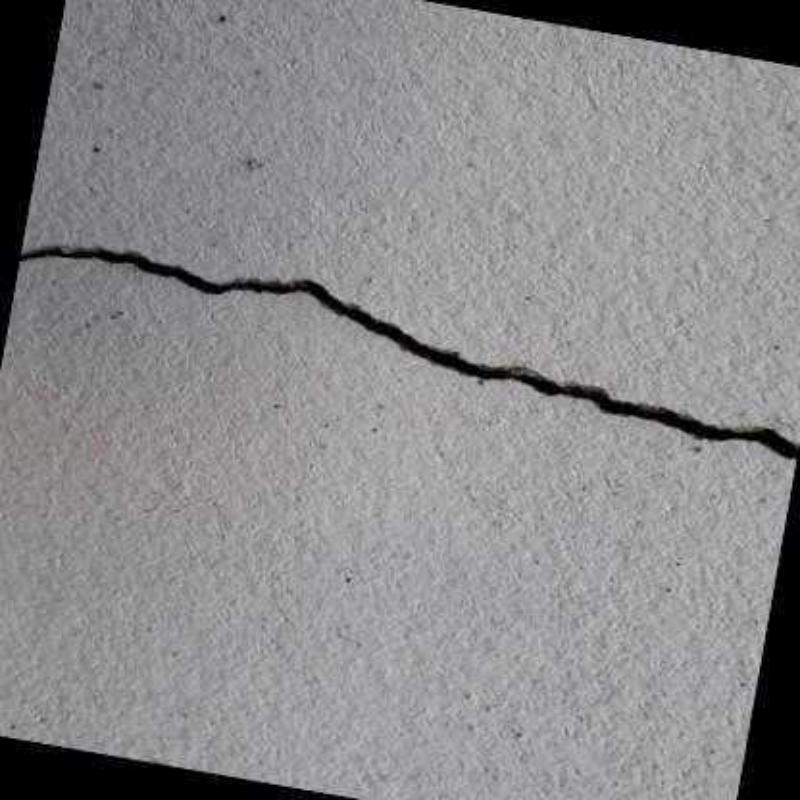crack: (18, 246, 798, 459)
